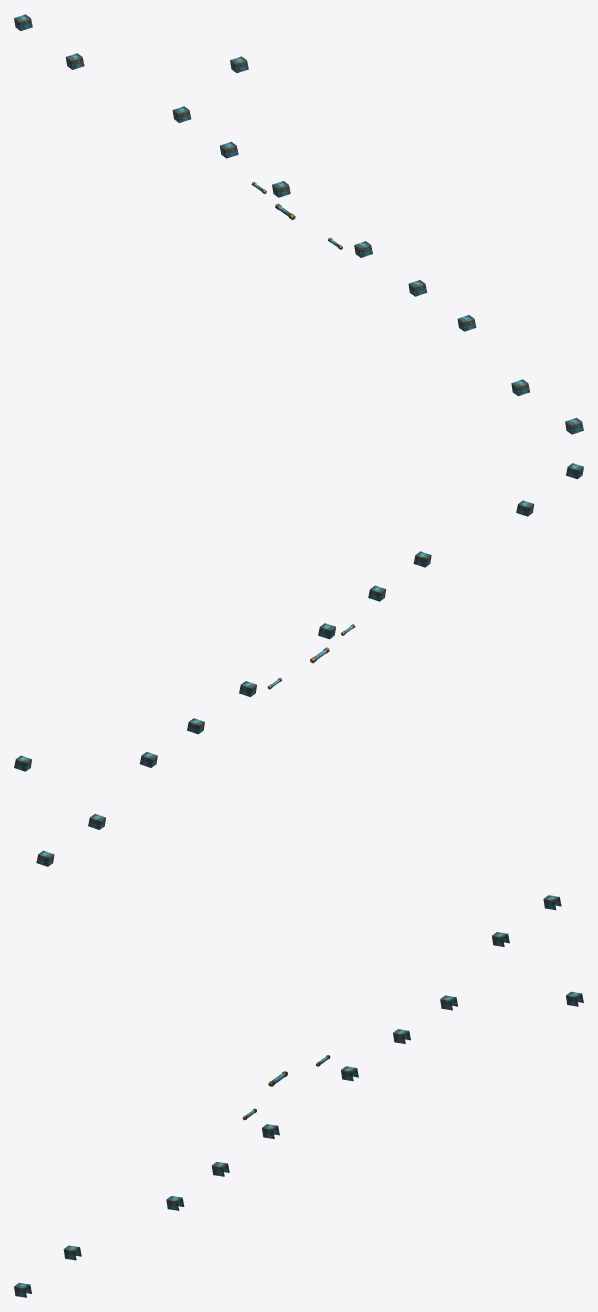
Rendered from Yland1_fz_04 Yland2.FBX.
The picture shows the model from 3 angles, top to bottom: view 1: azimuth 30°, elevation 25°; view 2: azimuth 150°, elevation 25°; view 3: azimuth 330°, elevation 25°; orthographic projection. The views are drawn at different scales.
Parts seen in each view (by area): view 1: Yland1_fz_04 Yland2; view 2: Yland1_fz_04 Yland2; view 3: Yland1_fz_04 Yland2.
Boxes of the visible parts, x1,y1,x2,y2 form: Yland1_fz_04 Yland2: (14,14,583,434); Yland1_fz_04 Yland2: (14,463,583,866); Yland1_fz_04 Yland2: (14,895,583,1297).
Bounding box in the file's own units: 8.68 × 1.34 × 59.42.
